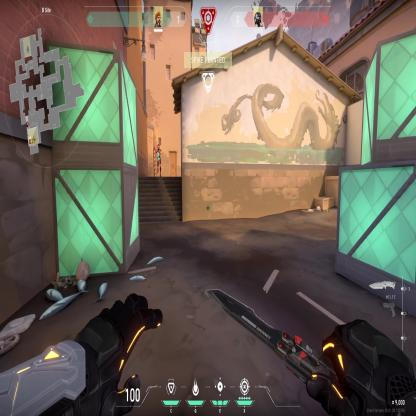enemy: (155, 143, 162, 177)
